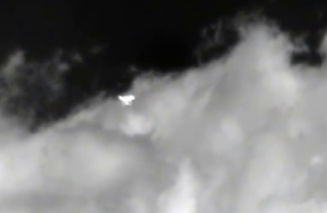Target: (120, 96, 135, 105)
